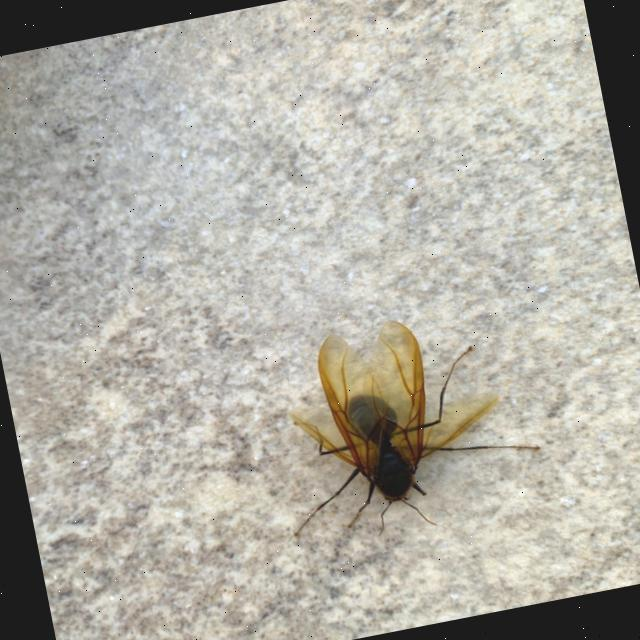Dead-Male-Alate: (258, 296, 552, 553)
